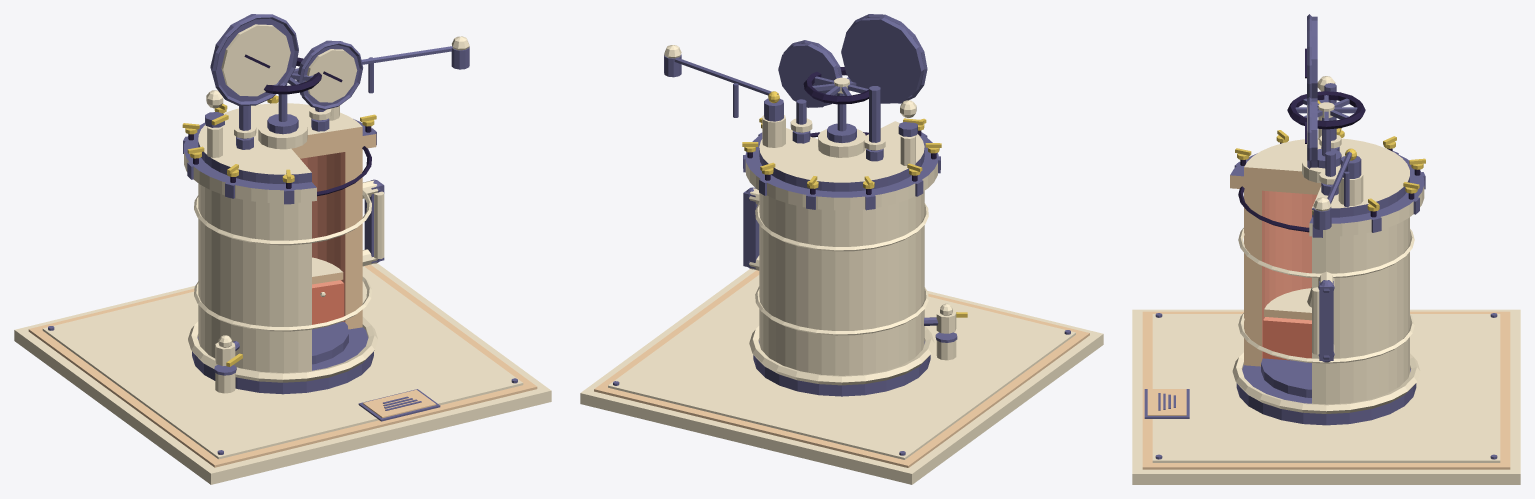
File: autoclave.glb
The picture shows the model from 3 angles, left to right: view 1: azimuth 30°, elevation 25°; view 2: azimuth 150°, elevation 25°; view 3: azimuth 270°, elevation 25°; orthographic projection. The views are drawn at different scales.
Parts seen in each view (by area): view 1: autoclave_cream, autoclave_steel, autoclave_peach, autoclave_rose, autoclave_yellow, anim_spin_y_volant, autoclave_dark; view 2: autoclave_cream, autoclave_steel, autoclave_peach, anim_spin_y_volant, autoclave_yellow; view 3: autoclave_cream, autoclave_steel, autoclave_peach, autoclave_rose, anim_spin_y_volant, autoclave_yellow, autoclave_dark.
Part boxes in pixels (x1=…): autoclave_cream: x1=14, y1=24, x2=551, y2=484; autoclave_steel: x1=48, y1=14, x2=517, y2=454; autoclave_peach: x1=28, y1=264, x2=537, y2=467; autoclave_rose: x1=312, y1=280, x2=344, y2=324; autoclave_yellow: x1=182, y1=95, x2=376, y2=366; anim_spin_y_volant: x1=264, y1=57, x2=321, y2=94; autoclave_dark: x1=188, y1=113, x2=371, y2=196; autoclave_cream: x1=580, y1=45, x2=1103, y2=484; autoclave_steel: x1=613, y1=14, x2=1070, y2=455; autoclave_peach: x1=594, y1=270, x2=1089, y2=467; anim_spin_y_volant: x1=803, y1=67, x2=869, y2=104; autoclave_yellow: x1=742, y1=91, x2=967, y2=317; autoclave_cream: x1=1132, y1=105, x2=1520, y2=484; autoclave_steel: x1=1144, y1=14, x2=1497, y2=459; autoclave_peach: x1=1142, y1=311, x2=1510, y2=469; autoclave_rose: x1=1263, y1=317, x2=1311, y2=360; anim_spin_y_volant: x1=1287, y1=91, x2=1365, y2=129; autoclave_yellow: x1=1235, y1=100, x2=1425, y2=214; autoclave_dark: x1=1238, y1=142, x2=1420, y2=232.
Size of the model in its own units: 1.97 by 1.98 by 1.9.
